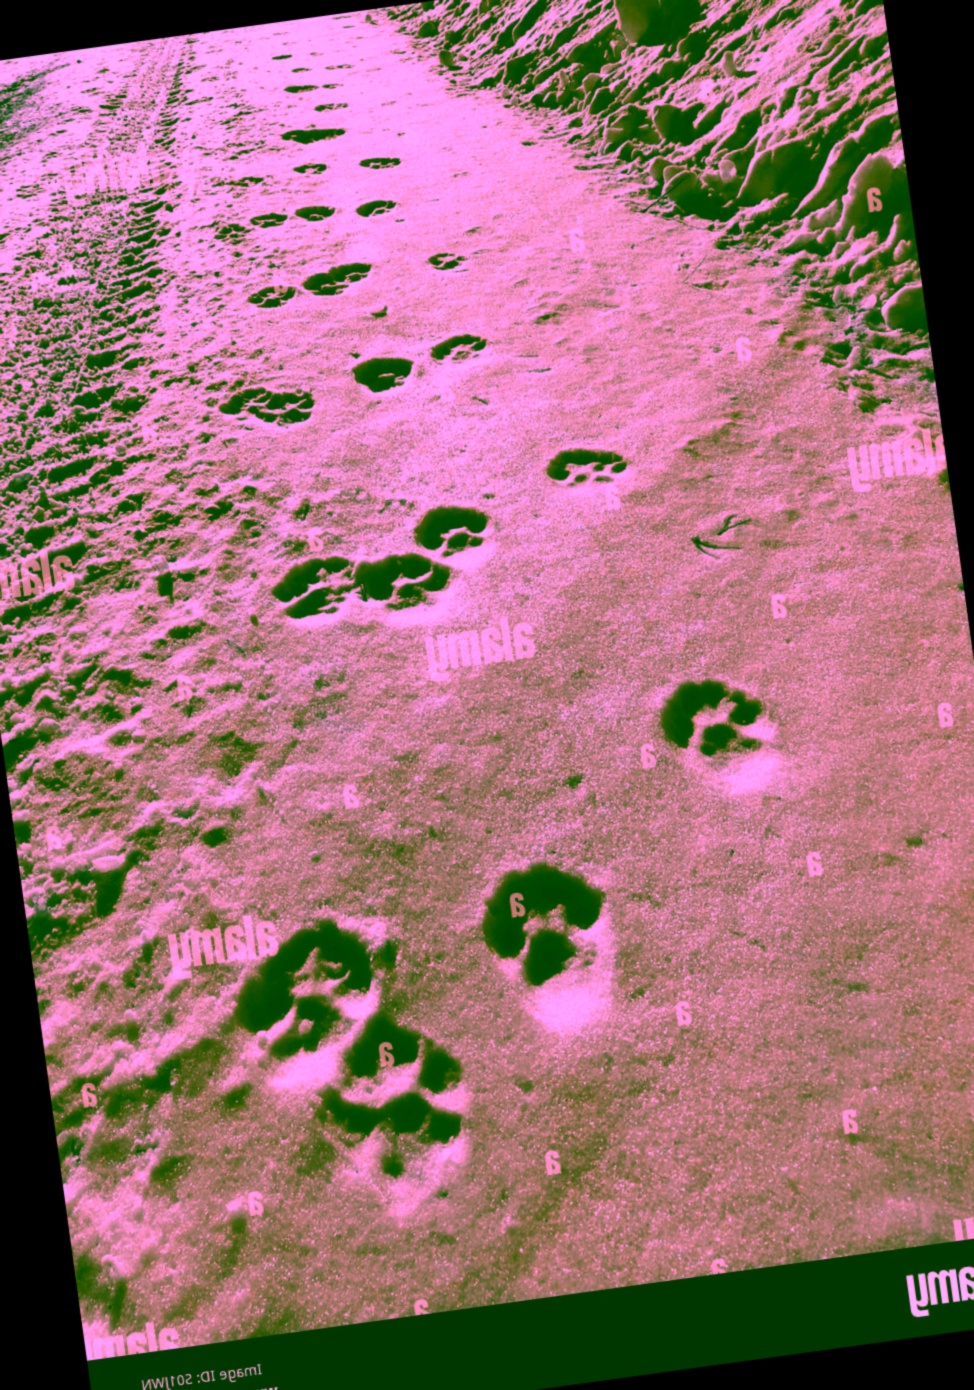loup: (207, 859, 507, 1239), (604, 616, 829, 852), (450, 822, 660, 1054), (241, 468, 510, 649), (528, 407, 634, 514)
